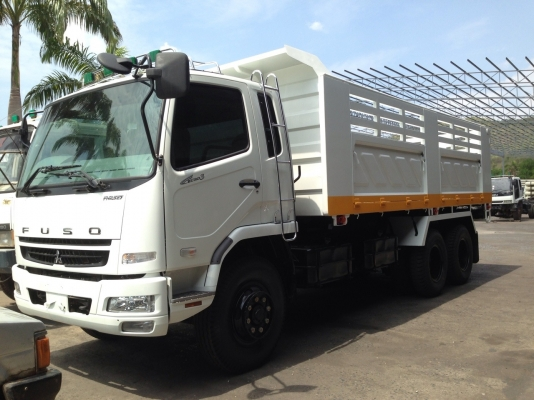truck: (15, 53, 334, 373)
